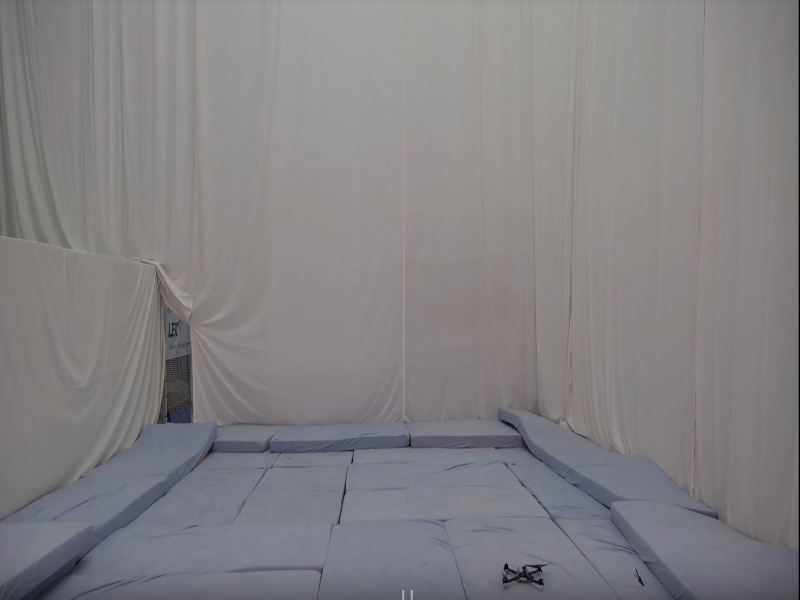drone: (501, 559, 546, 586)
